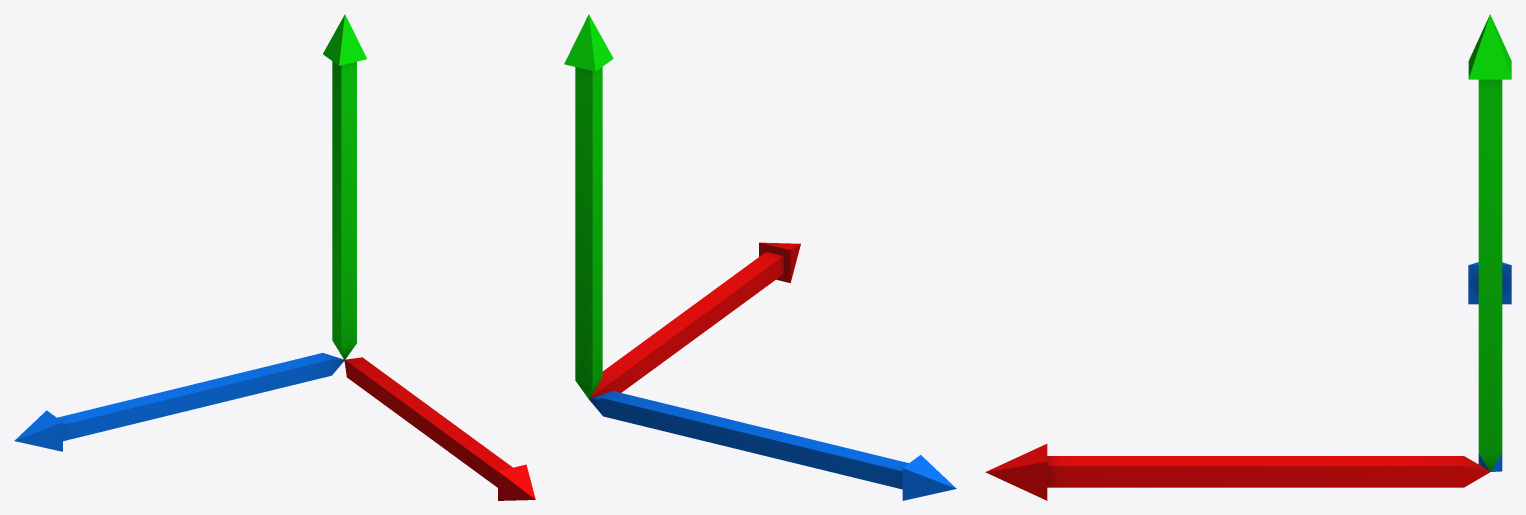
File: pivot3d.glb
3 views of the same model, side by side, from view 1: azimuth 30°, elevation 25°; view 2: azimuth 150°, elevation 25°; view 3: azimuth 270°, elevation 25° (orthographic). The views are drawn at different scales.
Parts seen in each view (by area): view 1: Box002; view 2: Box002; view 3: Box002.
Boxes of the visible parts, x1,y1,x2,y2 form: Box002: [14, 14, 535, 500]; Box002: [564, 14, 956, 500]; Box002: [985, 14, 1511, 500].
Size of the model in its own units: 4.87 by 4.87 by 4.87.
Materials: 1 (1 with a texture image).
